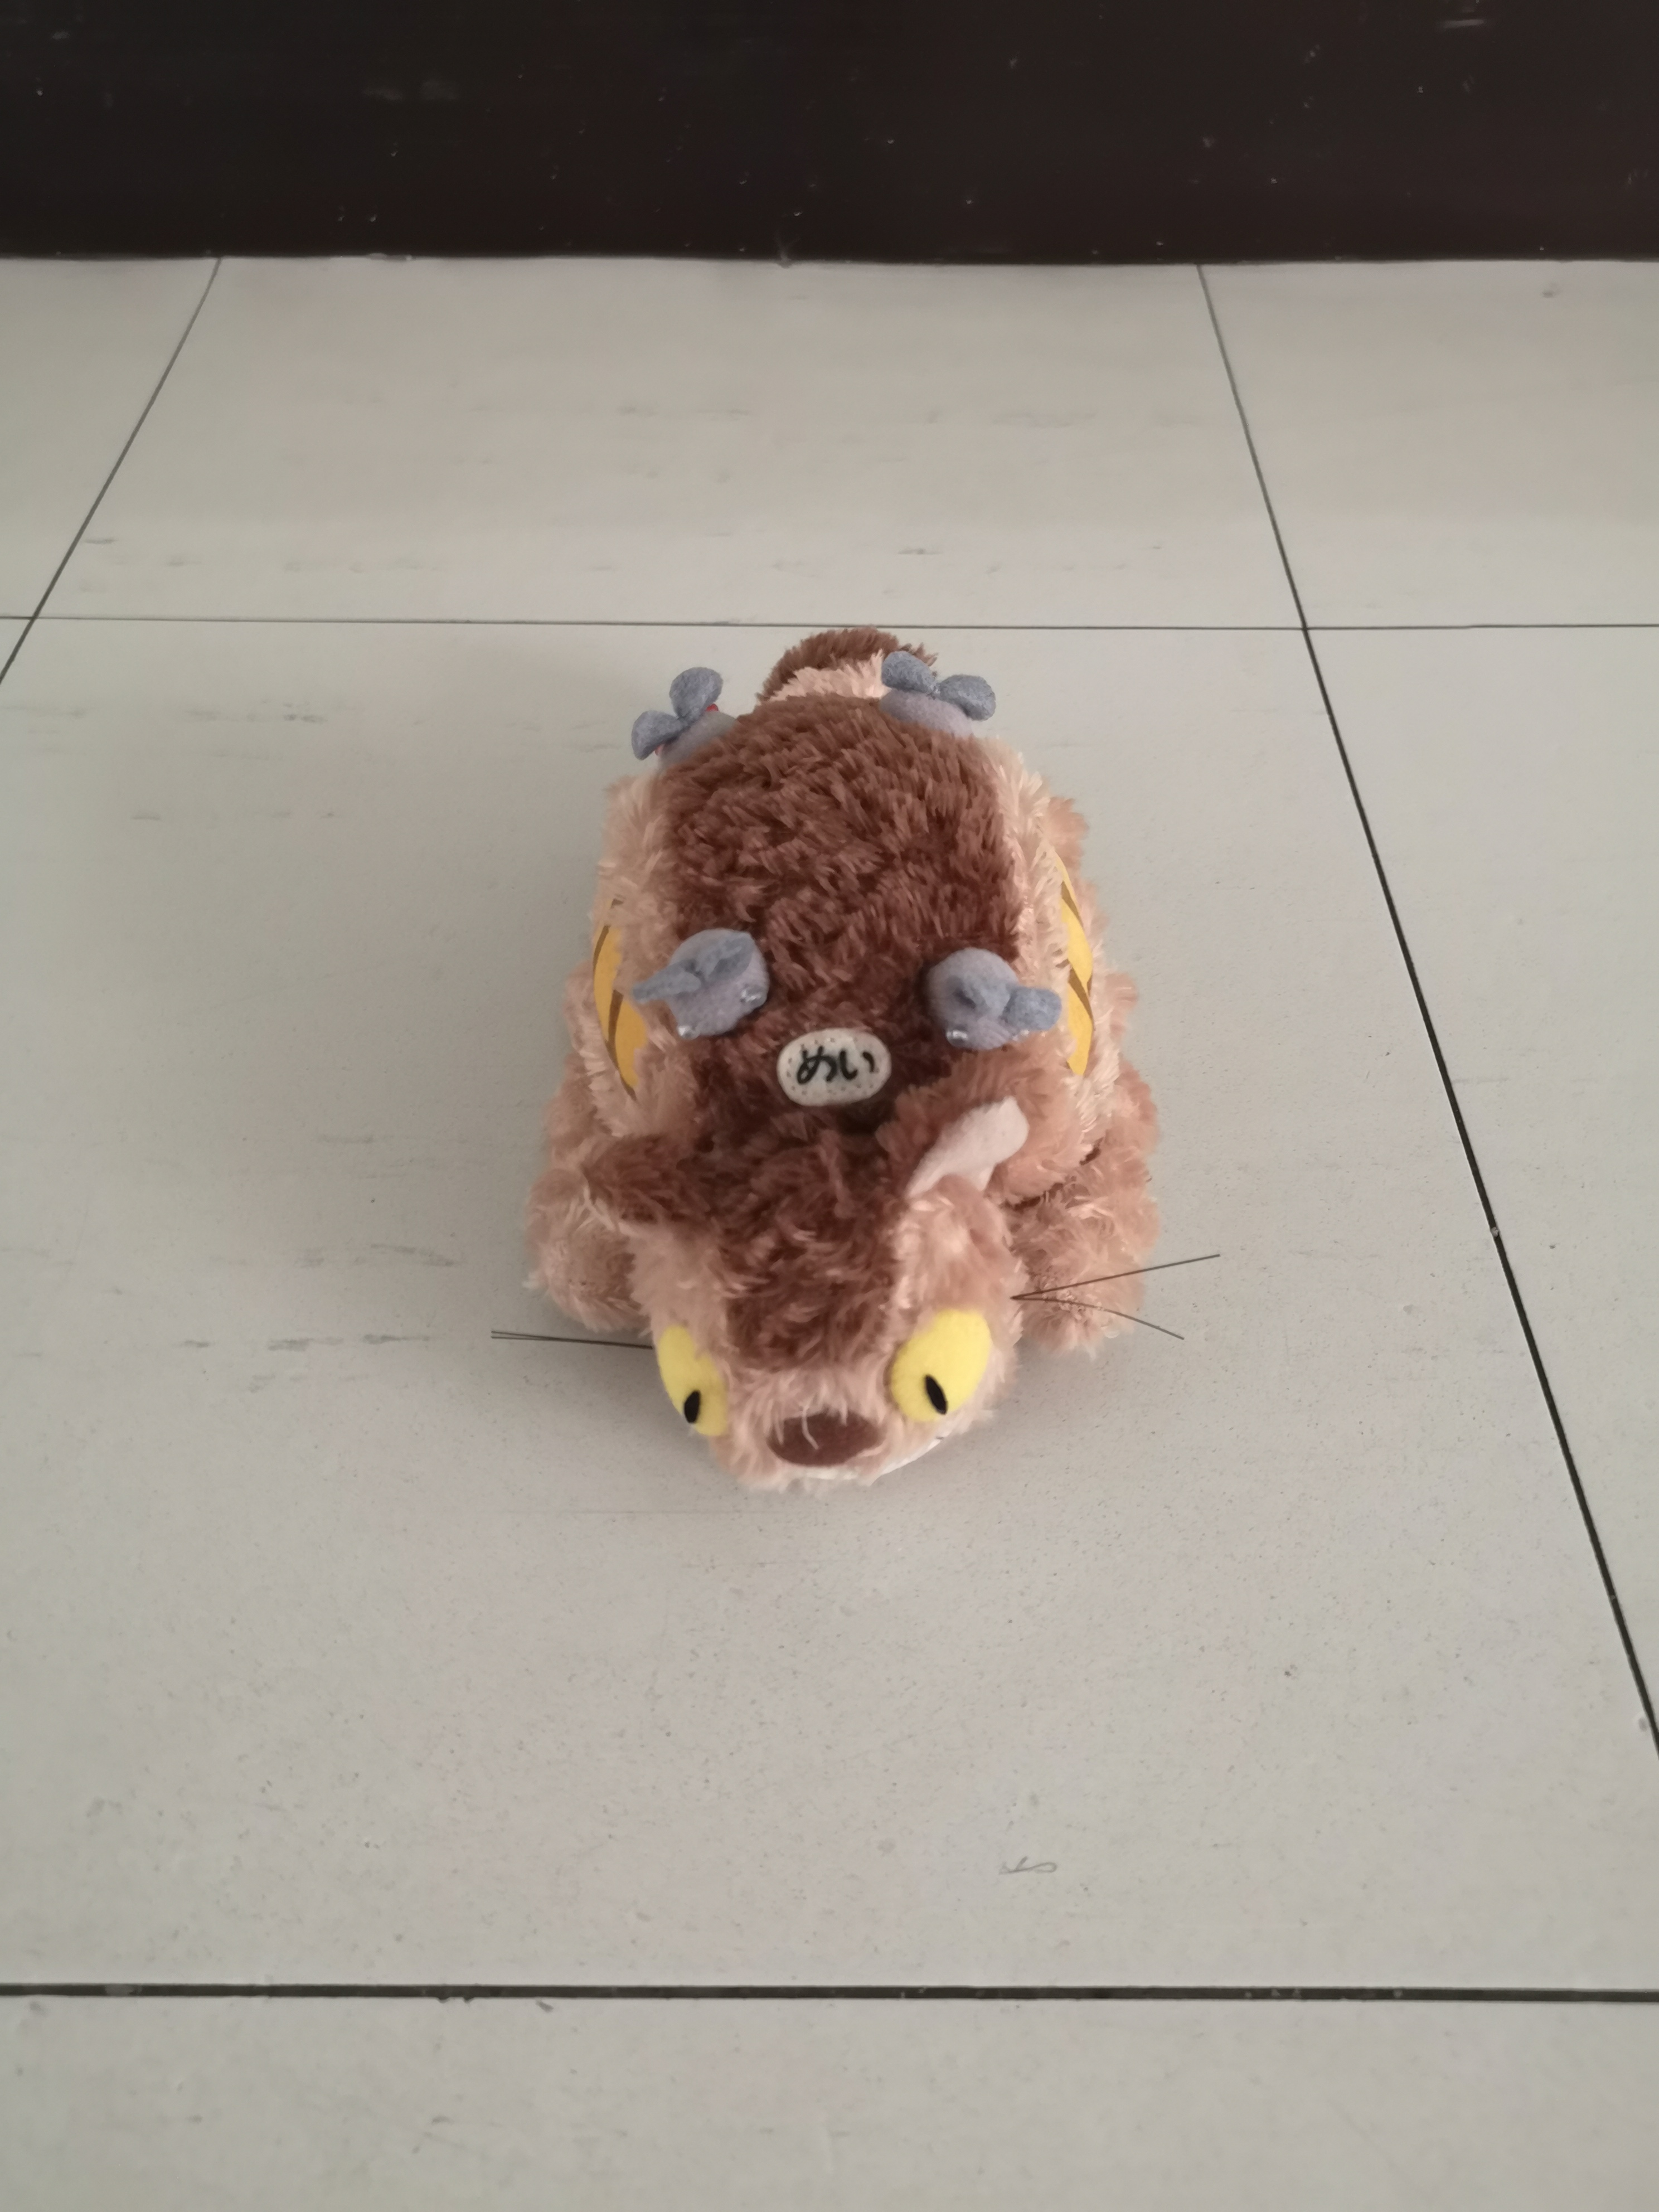nekobus: (477, 604, 1234, 1515)
